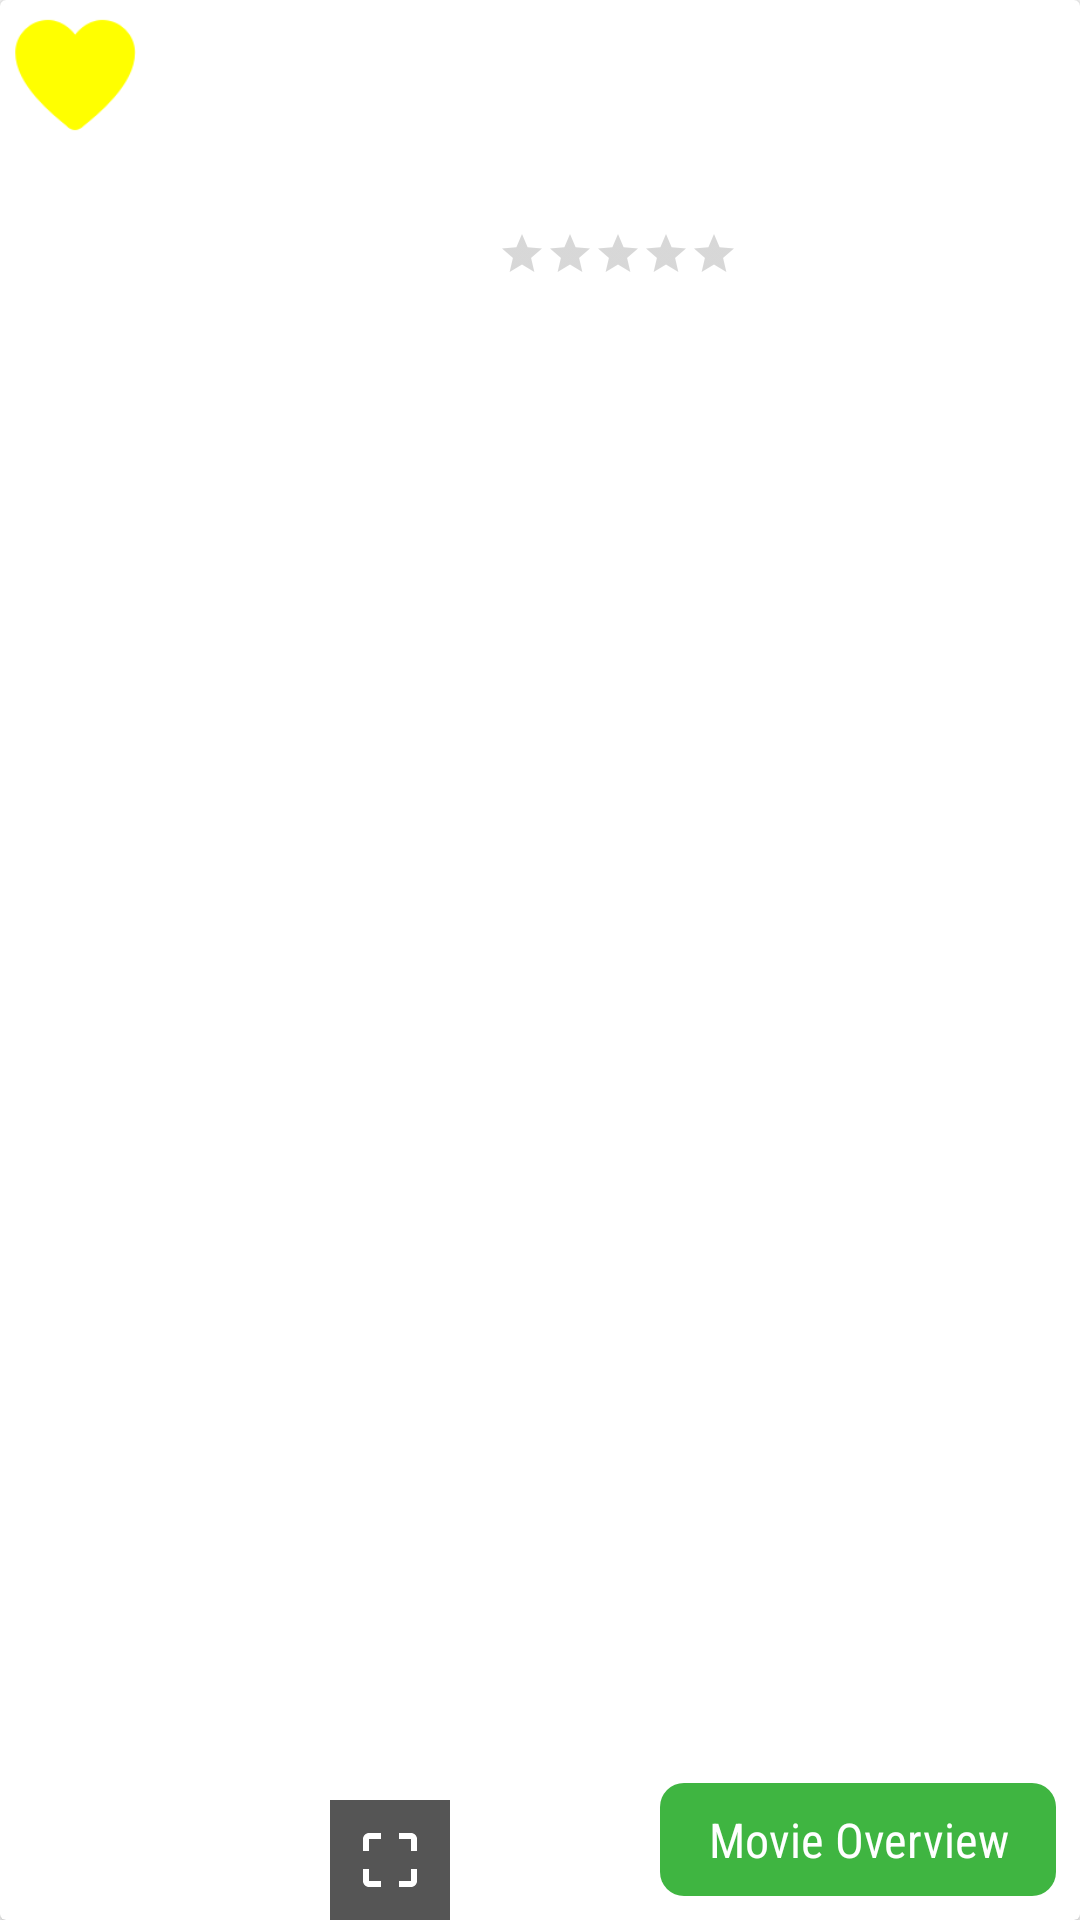

Icons on this 1080*1920 Android screen, each with the point to tap as point (x, y):
crop free: point (390, 1860)
favorite: point (68, 65)
